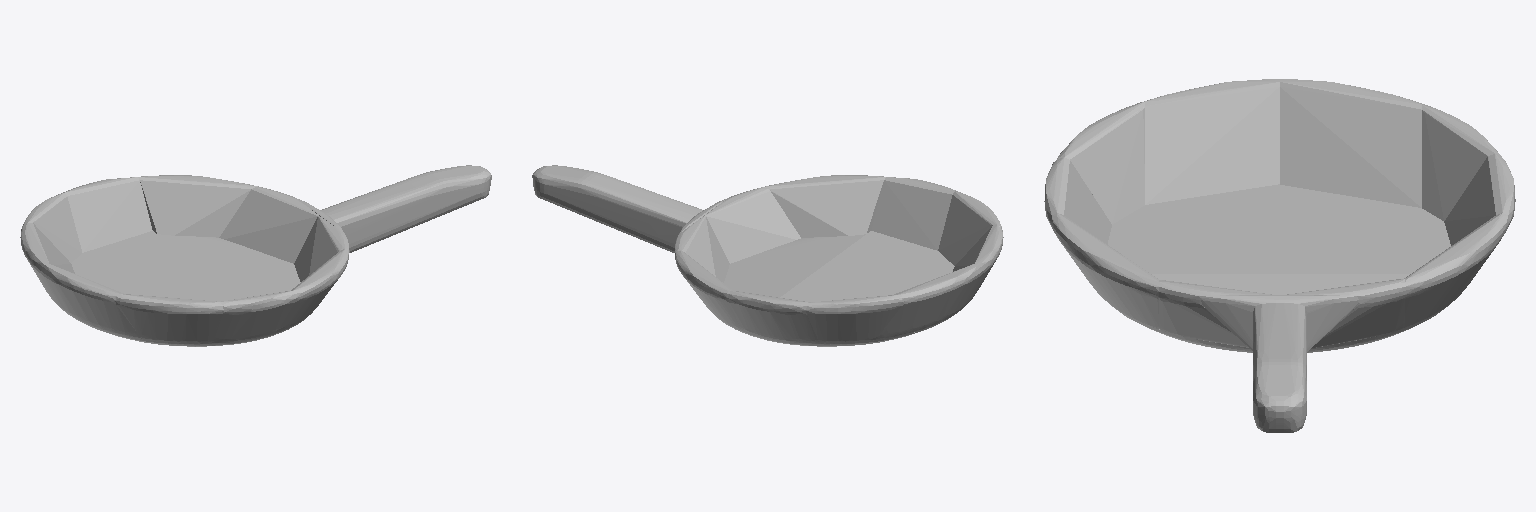
robot.urdf — root:
<robot name="root">
  <link name="object">
    <visual>
      <origin xyz="0 0 0" rpy="0 0 0"/>
      <geometry>
        <mesh filename="coacd_convex_piece_0.obj" scale="1.0000E+00 1.0000E+00 1.0000E+00"/>
      </geometry>
      <material name="">
        <color rgba="7.50E-01 7.50E-01 7.50E-01 1"/>
      </material>
    </visual>
    <collision>
      <origin xyz="0 0 0" rpy="0 0 0"/>
      <geometry>
        <mesh filename="coacd_convex_piece_0.obj" scale="1.0000E+00 1.0000E+00 1.0000E+00"/>
      </geometry>
    </collision>
    <visual>
      <origin xyz="0 0 0" rpy="0 0 0"/>
      <geometry>
        <mesh filename="coacd_convex_piece_1.obj" scale="1.0000E+00 1.0000E+00 1.0000E+00"/>
      </geometry>
      <material name="">
        <color rgba="7.50E-01 7.50E-01 7.50E-01 1"/>
      </material>
    </visual>
    <collision>
      <origin xyz="0 0 0" rpy="0 0 0"/>
      <geometry>
        <mesh filename="coacd_convex_piece_1.obj" scale="1.0000E+00 1.0000E+00 1.0000E+00"/>
      </geometry>
    </collision>
    <visual>
      <origin xyz="0 0 0" rpy="0 0 0"/>
      <geometry>
        <mesh filename="coacd_convex_piece_2.obj" scale="1.0000E+00 1.0000E+00 1.0000E+00"/>
      </geometry>
      <material name="">
        <color rgba="7.50E-01 7.50E-01 7.50E-01 1"/>
      </material>
    </visual>
    <collision>
      <origin xyz="0 0 0" rpy="0 0 0"/>
      <geometry>
        <mesh filename="coacd_convex_piece_2.obj" scale="1.0000E+00 1.0000E+00 1.0000E+00"/>
      </geometry>
    </collision>
    <visual>
      <origin xyz="0 0 0" rpy="0 0 0"/>
      <geometry>
        <mesh filename="coacd_convex_piece_3.obj" scale="1.0000E+00 1.0000E+00 1.0000E+00"/>
      </geometry>
      <material name="">
        <color rgba="7.50E-01 7.50E-01 7.50E-01 1"/>
      </material>
    </visual>
    <collision>
      <origin xyz="0 0 0" rpy="0 0 0"/>
      <geometry>
        <mesh filename="coacd_convex_piece_3.obj" scale="1.0000E+00 1.0000E+00 1.0000E+00"/>
      </geometry>
    </collision>
    <visual>
      <origin xyz="0 0 0" rpy="0 0 0"/>
      <geometry>
        <mesh filename="coacd_convex_piece_4.obj" scale="1.0000E+00 1.0000E+00 1.0000E+00"/>
      </geometry>
      <material name="">
        <color rgba="7.50E-01 7.50E-01 7.50E-01 1"/>
      </material>
    </visual>
    <collision>
      <origin xyz="0 0 0" rpy="0 0 0"/>
      <geometry>
        <mesh filename="coacd_convex_piece_4.obj" scale="1.0000E+00 1.0000E+00 1.0000E+00"/>
      </geometry>
    </collision>
    <visual>
      <origin xyz="0 0 0" rpy="0 0 0"/>
      <geometry>
        <mesh filename="coacd_convex_piece_5.obj" scale="1.0000E+00 1.0000E+00 1.0000E+00"/>
      </geometry>
      <material name="">
        <color rgba="7.50E-01 7.50E-01 7.50E-01 1"/>
      </material>
    </visual>
    <collision>
      <origin xyz="0 0 0" rpy="0 0 0"/>
      <geometry>
        <mesh filename="coacd_convex_piece_5.obj" scale="1.0000E+00 1.0000E+00 1.0000E+00"/>
      </geometry>
    </collision>
    <visual>
      <origin xyz="0 0 0" rpy="0 0 0"/>
      <geometry>
        <mesh filename="coacd_convex_piece_6.obj" scale="1.0000E+00 1.0000E+00 1.0000E+00"/>
      </geometry>
      <material name="">
        <color rgba="7.50E-01 7.50E-01 7.50E-01 1"/>
      </material>
    </visual>
    <collision>
      <origin xyz="0 0 0" rpy="0 0 0"/>
      <geometry>
        <mesh filename="coacd_convex_piece_6.obj" scale="1.0000E+00 1.0000E+00 1.0000E+00"/>
      </geometry>
    </collision>
    <visual>
      <origin xyz="0 0 0" rpy="0 0 0"/>
      <geometry>
        <mesh filename="coacd_convex_piece_7.obj" scale="1.0000E+00 1.0000E+00 1.0000E+00"/>
      </geometry>
      <material name="">
        <color rgba="7.50E-01 7.50E-01 7.50E-01 1"/>
      </material>
    </visual>
    <collision>
      <origin xyz="0 0 0" rpy="0 0 0"/>
      <geometry>
        <mesh filename="coacd_convex_piece_7.obj" scale="1.0000E+00 1.0000E+00 1.0000E+00"/>
      </geometry>
    </collision>
    <visual>
      <origin xyz="0 0 0" rpy="0 0 0"/>
      <geometry>
        <mesh filename="coacd_convex_piece_8.obj" scale="1.0000E+00 1.0000E+00 1.0000E+00"/>
      </geometry>
      <material name="">
        <color rgba="7.50E-01 7.50E-01 7.50E-01 1"/>
      </material>
    </visual>
    <collision>
      <origin xyz="0 0 0" rpy="0 0 0"/>
      <geometry>
        <mesh filename="coacd_convex_piece_8.obj" scale="1.0000E+00 1.0000E+00 1.0000E+00"/>
      </geometry>
    </collision>
    <visual>
      <origin xyz="0 0 0" rpy="0 0 0"/>
      <geometry>
        <mesh filename="coacd_convex_piece_9.obj" scale="1.0000E+00 1.0000E+00 1.0000E+00"/>
      </geometry>
      <material name="">
        <color rgba="7.50E-01 7.50E-01 7.50E-01 1"/>
      </material>
    </visual>
    <collision>
      <origin xyz="0 0 0" rpy="0 0 0"/>
      <geometry>
        <mesh filename="coacd_convex_piece_9.obj" scale="1.0000E+00 1.0000E+00 1.0000E+00"/>
      </geometry>
    </collision>
    <visual>
      <origin xyz="0 0 0" rpy="0 0 0"/>
      <geometry>
        <mesh filename="coacd_convex_piece_10.obj" scale="1.0000E+00 1.0000E+00 1.0000E+00"/>
      </geometry>
      <material name="">
        <color rgba="7.50E-01 7.50E-01 7.50E-01 1"/>
      </material>
    </visual>
    <collision>
      <origin xyz="0 0 0" rpy="0 0 0"/>
      <geometry>
        <mesh filename="coacd_convex_piece_10.obj" scale="1.0000E+00 1.0000E+00 1.0000E+00"/>
      </geometry>
    </collision>
    <visual>
      <origin xyz="0 0 0" rpy="0 0 0"/>
      <geometry>
        <mesh filename="coacd_convex_piece_11.obj" scale="1.0000E+00 1.0000E+00 1.0000E+00"/>
      </geometry>
      <material name="">
        <color rgba="7.50E-01 7.50E-01 7.50E-01 1"/>
      </material>
    </visual>
    <collision>
      <origin xyz="0 0 0" rpy="0 0 0"/>
      <geometry>
        <mesh filename="coacd_convex_piece_11.obj" scale="1.0000E+00 1.0000E+00 1.0000E+00"/>
      </geometry>
    </collision>
    <visual>
      <origin xyz="0 0 0" rpy="0 0 0"/>
      <geometry>
        <mesh filename="coacd_convex_piece_12.obj" scale="1.0000E+00 1.0000E+00 1.0000E+00"/>
      </geometry>
      <material name="">
        <color rgba="7.50E-01 7.50E-01 7.50E-01 1"/>
      </material>
    </visual>
    <collision>
      <origin xyz="0 0 0" rpy="0 0 0"/>
      <geometry>
        <mesh filename="coacd_convex_piece_12.obj" scale="1.0000E+00 1.0000E+00 1.0000E+00"/>
      </geometry>
    </collision>
  </link>
</robot>

--- Render facts (derived) ---
3 views of the same robot in one strip: view 1: azimuth 30°, elevation 25°; view 2: azimuth 150°, elevation 25°; view 3: azimuth 270°, elevation 25° (orthographic).
Robot: root — 1 links, 0 joints (none); root link object; default pose: all joints at 0.
Visible links, largest first — view 1: object; view 2: object; view 3: object.
Boxes of the visible links, x1,y1,x2,y2 form: object: (20, 165, 491, 346); object: (532, 165, 1003, 346); object: (1044, 79, 1515, 432).
Size in the robot's own frame: 0.2381 by 0.1523 by 0.0379 metres.
Meshes: 13 distinct files referenced, 13 mesh visuals loaded (13 OBJ).
